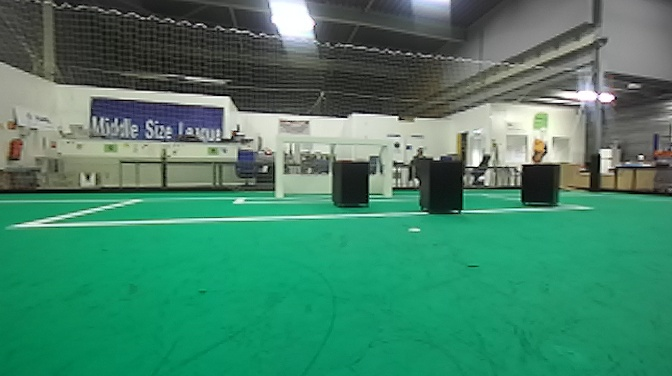goalpost: (273, 134, 287, 201), (380, 137, 392, 196)
